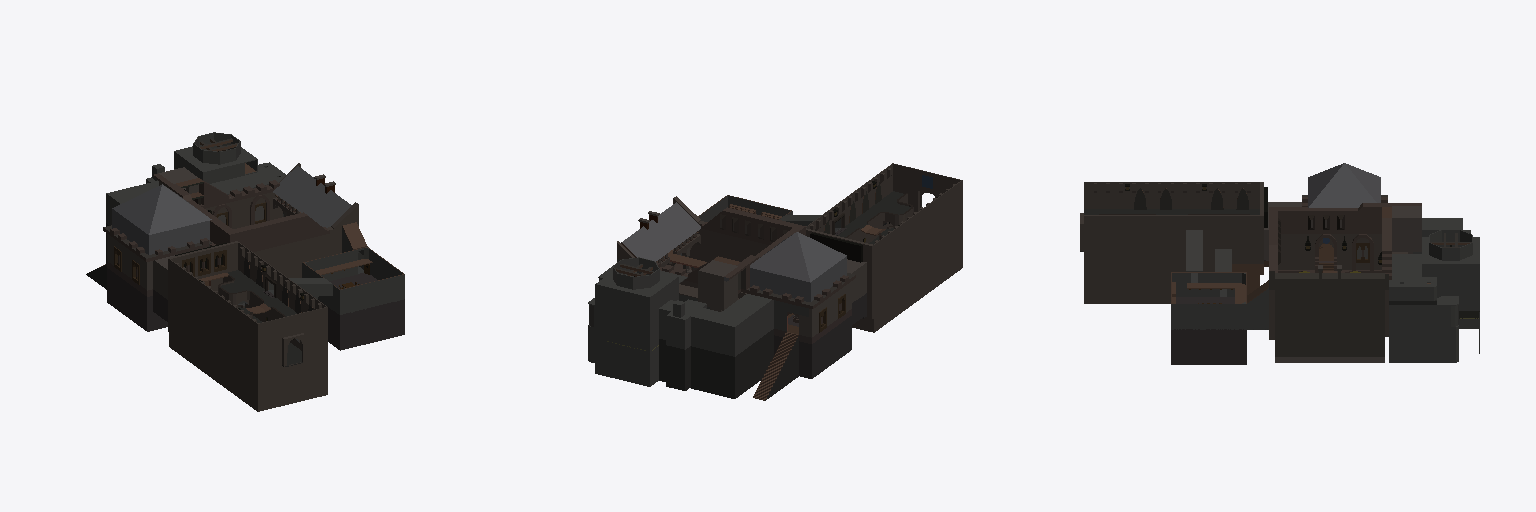
File: building2.obj
3 views of the same model, side by side, from view 1: azimuth 30°, elevation 25°; view 2: azimuth 150°, elevation 25°; view 3: azimuth 270°, elevation 25° (orthographic).
Parts seen in each view (by area): view 1: Brush1310, Brush438, Brush180, Brush1040, Brush1039, Brush1544, Brush676, Brush993, Brush1006, Brush1371, Brush1014, Brush1289 (+8 smaller); view 2: Brush702, Brush438, Brush1310, Brush1538, Brush1040, Brush676, Brush1544, Brush999, Brush1039, Brush1539, Brush1289, Brush1027 (+12 smaller); view 3: Brush1183, Brush1310, Brush438, Brush180, Brush1341, Brush992, Brush1026, Brush1358, Brush285, Brush1278, Brush1032, Brush862 (+13 smaller).
Part boxes in pixels (x1,y1,x2,y2): Brush1310: (192, 316, 327, 411); Brush438: (169, 259, 258, 370); Brush180: (318, 273, 404, 350); Brush1040: (273, 166, 351, 227); Brush1039: (233, 212, 326, 249); Brush1544: (112, 185, 161, 254); Brush676: (107, 268, 159, 331); Brush993: (340, 274, 404, 314); Brush1006: (149, 184, 211, 234); Brush1371: (253, 231, 341, 263); Brush1014: (149, 221, 209, 254); Brush1289: (169, 307, 191, 362); Brush702: (595, 284, 650, 386); Brush438: (874, 180, 962, 292); Brush1310: (869, 228, 962, 315); Brush1538: (710, 329, 773, 398); Brush1040: (622, 202, 700, 261); Brush676: (799, 316, 851, 378); Brush1544: (797, 232, 846, 301); Brush999: (750, 232, 810, 282); Brush1039: (704, 207, 797, 242); Brush1539: (734, 300, 773, 356); Brush1289: (852, 277, 896, 332); Brush1027: (750, 268, 810, 301); Brush1183: (1275, 273, 1384, 356); Brush1310: (1084, 263, 1214, 303); Brush438: (1084, 182, 1259, 208); Brush180: (1171, 297, 1246, 364); Brush1341: (1084, 215, 1260, 231); Brush992: (1171, 304, 1246, 329); Brush1026: (1269, 210, 1381, 230); Brush1358: (1083, 232, 1185, 248); Brush285: (1389, 327, 1436, 362); Brush1278: (1084, 249, 1214, 263); Brush1032: (1309, 163, 1376, 207); Brush862: (1389, 304, 1450, 327).
Size of the model in its own units: 1992 by 1216 by 3496.